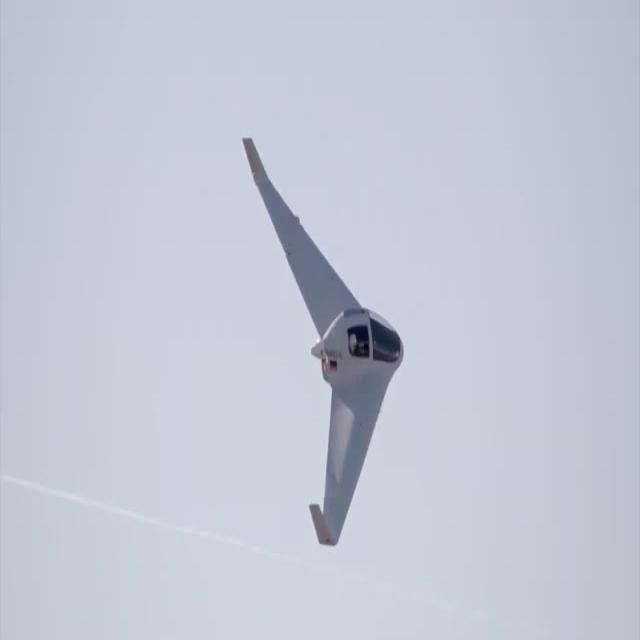iha: (237, 128, 409, 560)
